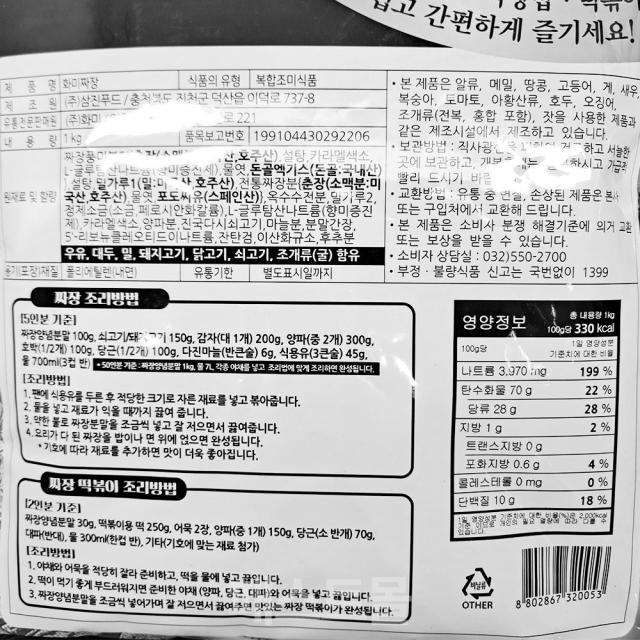Nutrition Label: (437, 285, 628, 551)
